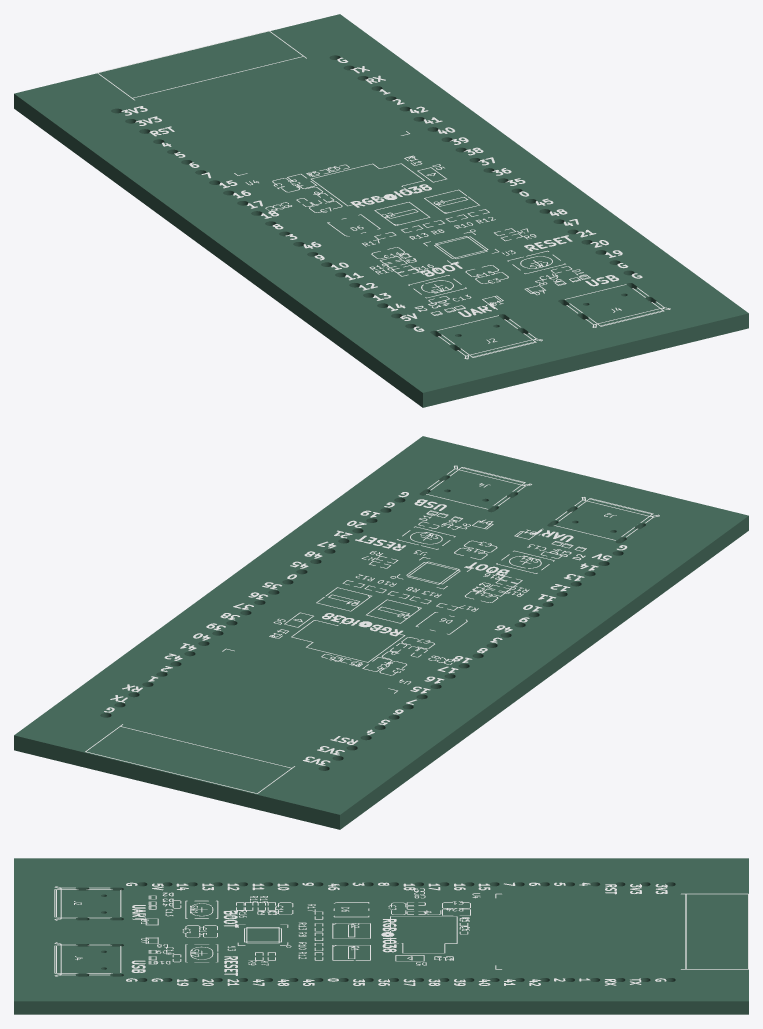
The model's file is ESP32-S3-DevKitC-1_V1.1.preview.glb.
3 views of the same model, one above another, from view 1: azimuth 30°, elevation 25°; view 2: azimuth 150°, elevation 25°; view 3: azimuth 270°, elevation 25° (orthographic). The views are drawn at different scales.
Visible parts, largest first — view 1: =>[0:1:1:4], =>[0:1:1:2]; view 2: =>[0:1:1:4], =>[0:1:1:2]; view 3: =>[0:1:1:4], =>[0:1:1:2].
Part boxes in pixels (bbox=[...]): =>[0:1:1:4]: bbox=[14, 14, 748, 407]; =>[0:1:1:2]: bbox=[97, 30, 670, 359]; =>[0:1:1:4]: bbox=[14, 436, 748, 829]; =>[0:1:1:2]: bbox=[85, 465, 659, 793]; =>[0:1:1:4]: bbox=[14, 858, 748, 1014]; =>[0:1:1:2]: bbox=[54, 882, 748, 985].
Size of the model in its own units: 0.0342 by 0.00165 by 0.0742.
